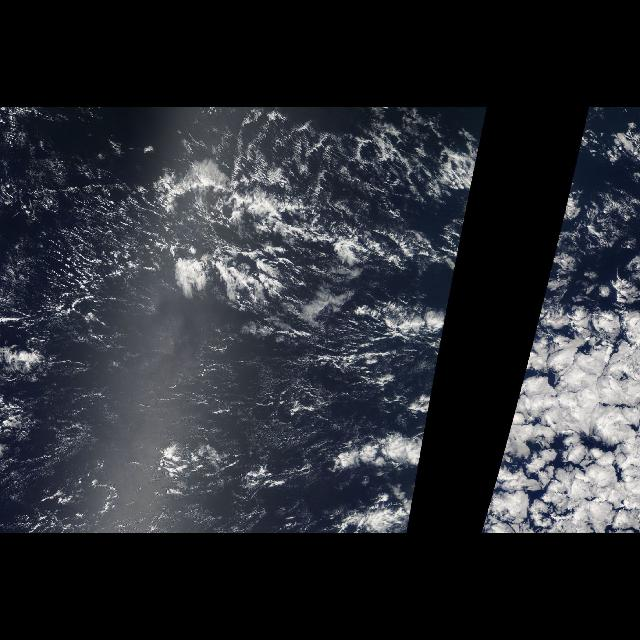Flower: (480, 300, 640, 532), (334, 300, 451, 532)
Gravel: (228, 109, 464, 203)
Sugar: (5, 176, 323, 447)
